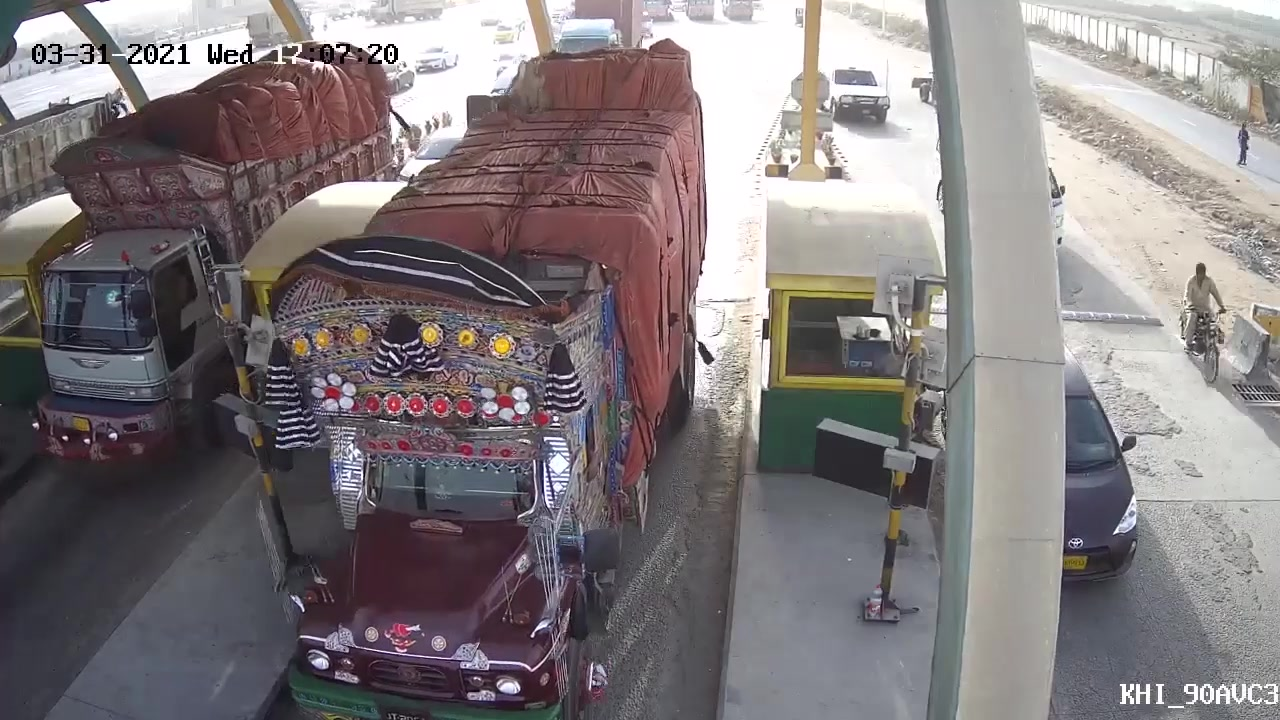F5: (281, 33, 714, 720)
